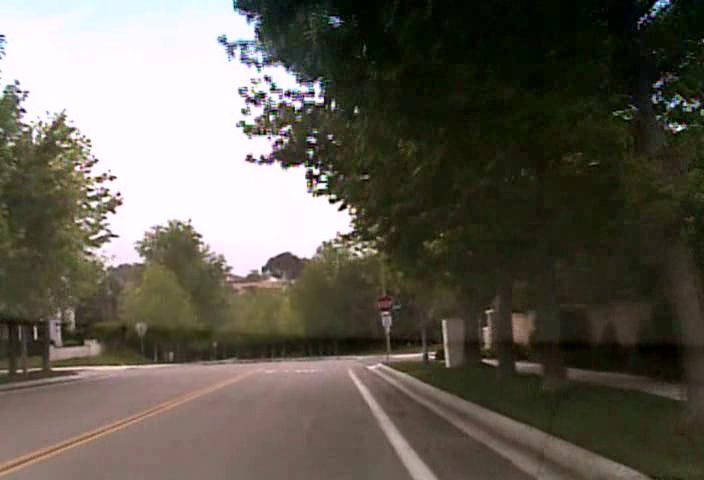stop: (374, 293, 395, 313)
